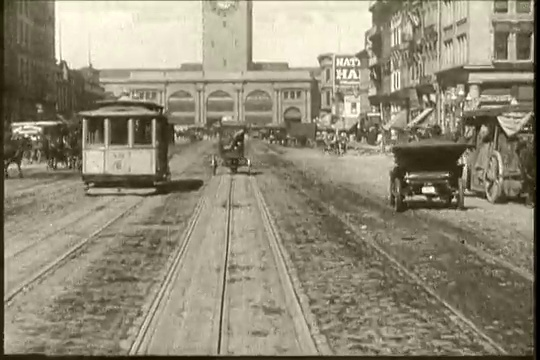car: (383, 139, 474, 213)
carriage: (455, 96, 534, 219), (207, 118, 255, 177)
trolley: (73, 96, 172, 203)
